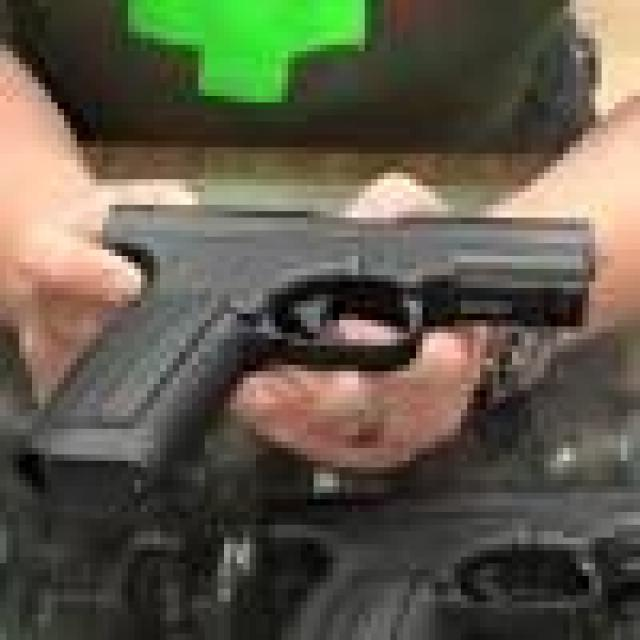Gun: (15, 172, 604, 513)
